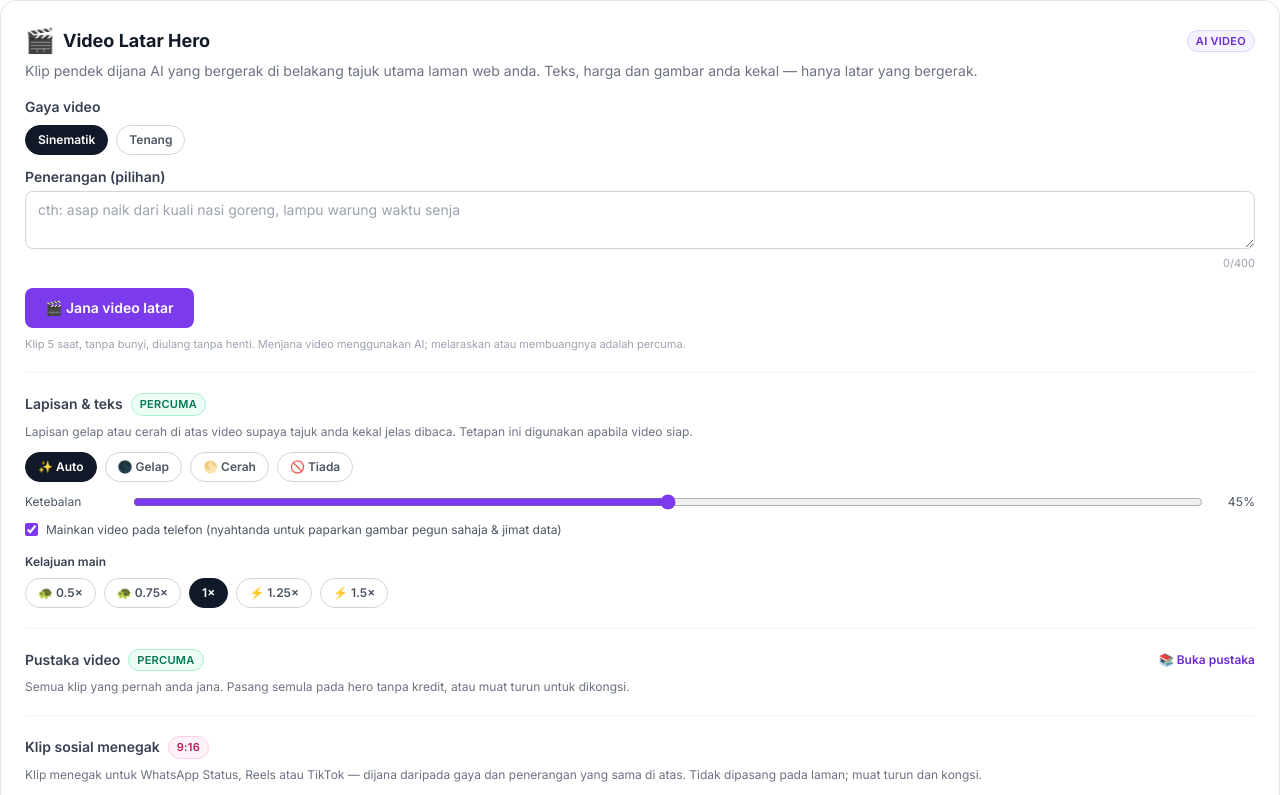
Test: HeroVideoPanel › surfaces a start failure from the backend
Click the button with test id "generate-hero-video" at (109, 308), box top-left (25, 288), bottom-right (194, 328)
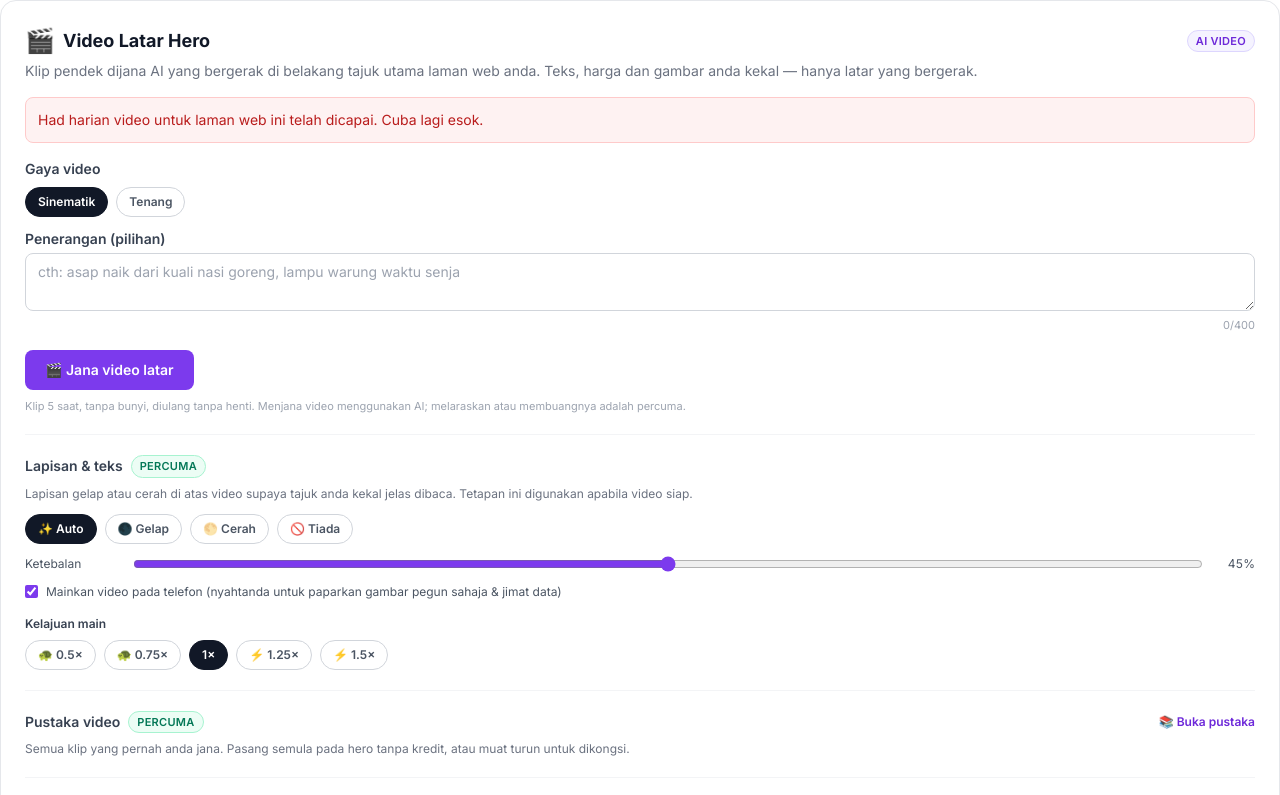
Check: the text "Had harian video" is shown, box top-left (38, 111), bottom-right (483, 128)
